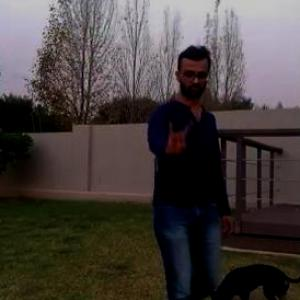takeoff-hand: (156, 115, 197, 159)
